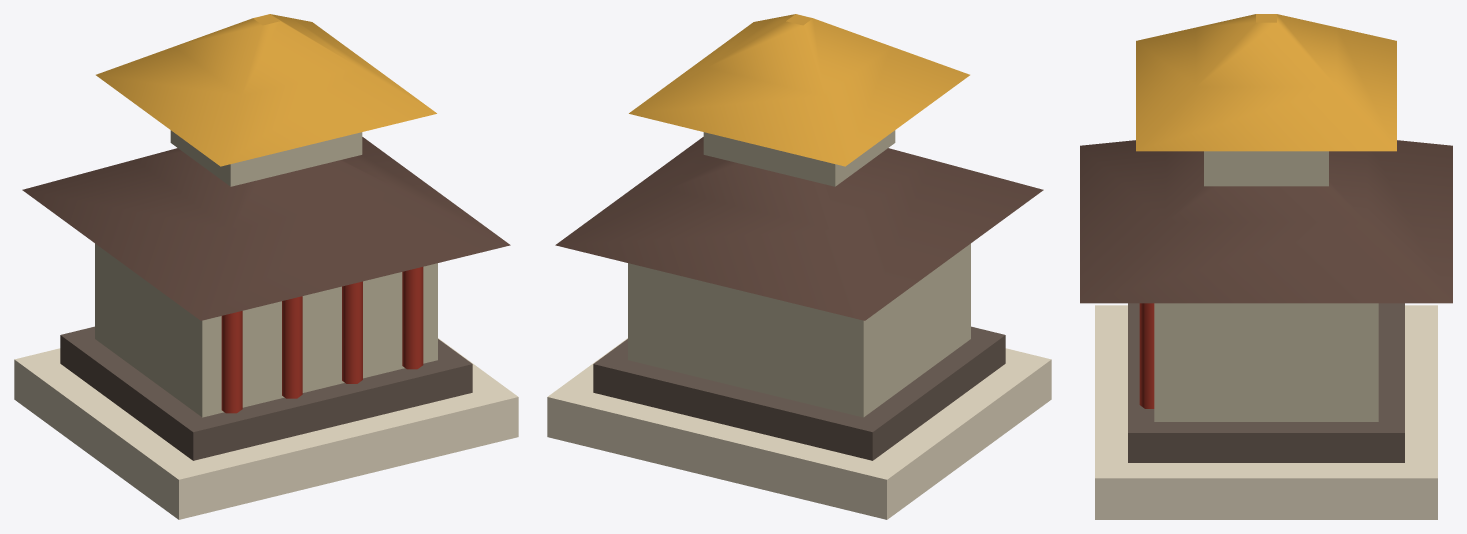
Rendered from zong_zhu_da_dian.glb.
3 renders of one model, left to right at view 1: azimuth 30°, elevation 25°; view 2: azimuth 150°, elevation 25°; view 3: azimuth 270°, elevation 25°, orthographic. The views are drawn at different scales.
Visible parts, largest first — view 1: _MeshInstance3D_69, _MeshInstance3D_62, _MeshInstance3D_71, _MeshInstance3D_64, _MeshInstance3D_63, _MeshInstance3D_70, _MeshInstance3D_68, _MeshInstance3D_65, _MeshInstance3D_66, _MeshInstance3D_67; view 2: _MeshInstance3D_69, _MeshInstance3D_64, _MeshInstance3D_62, _MeshInstance3D_71, _MeshInstance3D_63, _MeshInstance3D_70; view 3: _MeshInstance3D_69, _MeshInstance3D_71, _MeshInstance3D_62, _MeshInstance3D_64, _MeshInstance3D_63, _MeshInstance3D_70, _MeshInstance3D_68.
Part boxes in pixels (x1=…): _MeshInstance3D_69: x1=22, y1=137, x2=510, y2=320; _MeshInstance3D_62: x1=14, y1=338, x2=518, y2=519; _MeshInstance3D_71: x1=96, y1=14, x2=436, y2=166; _MeshInstance3D_64: x1=95, y1=243, x2=437, y2=417; _MeshInstance3D_63: x1=60, y1=326, x2=472, y2=460; _MeshInstance3D_70: x1=170, y1=130, x2=362, y2=186; _MeshInstance3D_68: x1=402, y1=267, x2=423, y2=369; _MeshInstance3D_65: x1=221, y1=311, x2=242, y2=413; _MeshInstance3D_66: x1=282, y1=296, x2=302, y2=398; _MeshInstance3D_67: x1=342, y1=281, x2=362, y2=383; _MeshInstance3D_69: x1=555, y1=137, x2=1043, y2=320; _MeshInstance3D_64: x1=628, y1=243, x2=970, y2=417; _MeshInstance3D_62: x1=547, y1=338, x2=1051, y2=519; _MeshInstance3D_71: x1=629, y1=14, x2=969, y2=166; _MeshInstance3D_63: x1=593, y1=326, x2=1005, y2=460; _MeshInstance3D_70: x1=703, y1=130, x2=895, y2=186; _MeshInstance3D_69: x1=1080, y1=140, x2=1452, y2=303; _MeshInstance3D_71: x1=1136, y1=14, x2=1396, y2=151; _MeshInstance3D_62: x1=1095, y1=305, x2=1437, y2=519; _MeshInstance3D_64: x1=1154, y1=303, x2=1378, y2=421; _MeshInstance3D_63: x1=1128, y1=303, x2=1404, y2=462; _MeshInstance3D_70: x1=1204, y1=151, x2=1328, y2=186; _MeshInstance3D_68: x1=1139, y1=303, x2=1154, y2=408.
Size of the model in its own units: 1.24 by 1.39 by 1.13.
